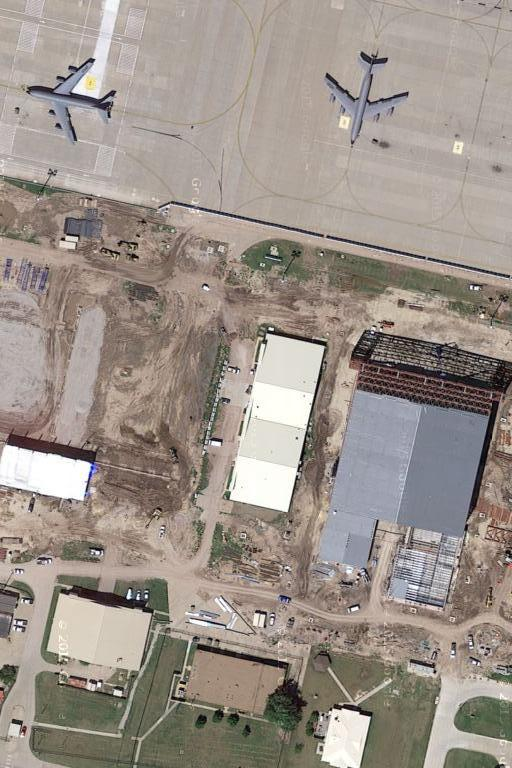KC-135: (320, 45, 413, 152), (22, 53, 120, 147)
